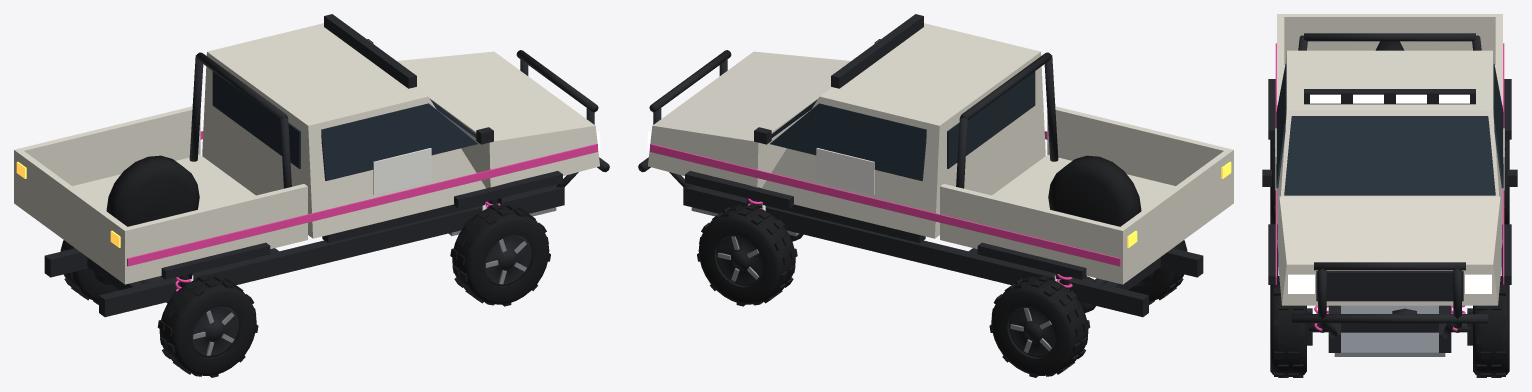
Rendered from truck-light4x4.glb.
3 views of the same model, side by side, from view 1: azimuth 30°, elevation 25°; view 2: azimuth 150°, elevation 25°; view 3: azimuth 270°, elevation 25° (orthographic).
Visible parts, largest first — view 1: BodyShell, Wheel_FR, Wheel_RR, Wheel_RL; view 2: BodyShell, Wheel_FL, Wheel_RL, Wheel_RR; view 3: BodyShell, Wheel_FL, Wheel_FR, Wheel_RL, Wheel_RR, Axle_F.
Part boxes in pixels (<box>): BodyShell: <box>14,14,609,317</box>; Wheel_FR: <box>450,204,550,306</box>; Wheel_RR: <box>157,275,258,377</box>; Wheel_RL: <box>60,240,119,304</box>; BodyShell: <box>638,14,1233,317</box>; Wheel_FL: <box>697,204,797,306</box>; Wheel_RL: <box>989,275,1090,377</box>; Wheel_RR: <box>1128,240,1187,304</box>; BodyShell: <box>1262,14,1517,356</box>; Wheel_FL: <box>1473,276,1509,377</box>; Wheel_FR: <box>1270,276,1306,377</box>; Wheel_RL: <box>1504,139,1509,224</box>; Wheel_RR: <box>1270,139,1275,224</box>; Axle_F: <box>1309,308,1470,332</box>.
Size of the model in its own units: 4.72 by 2.17 by 2.08.
